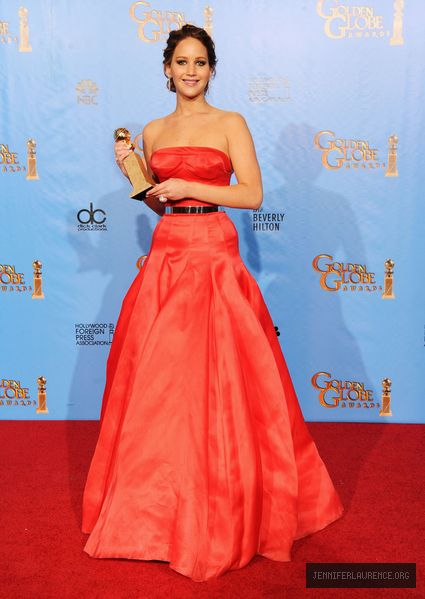hand: (148, 180, 192, 200)
